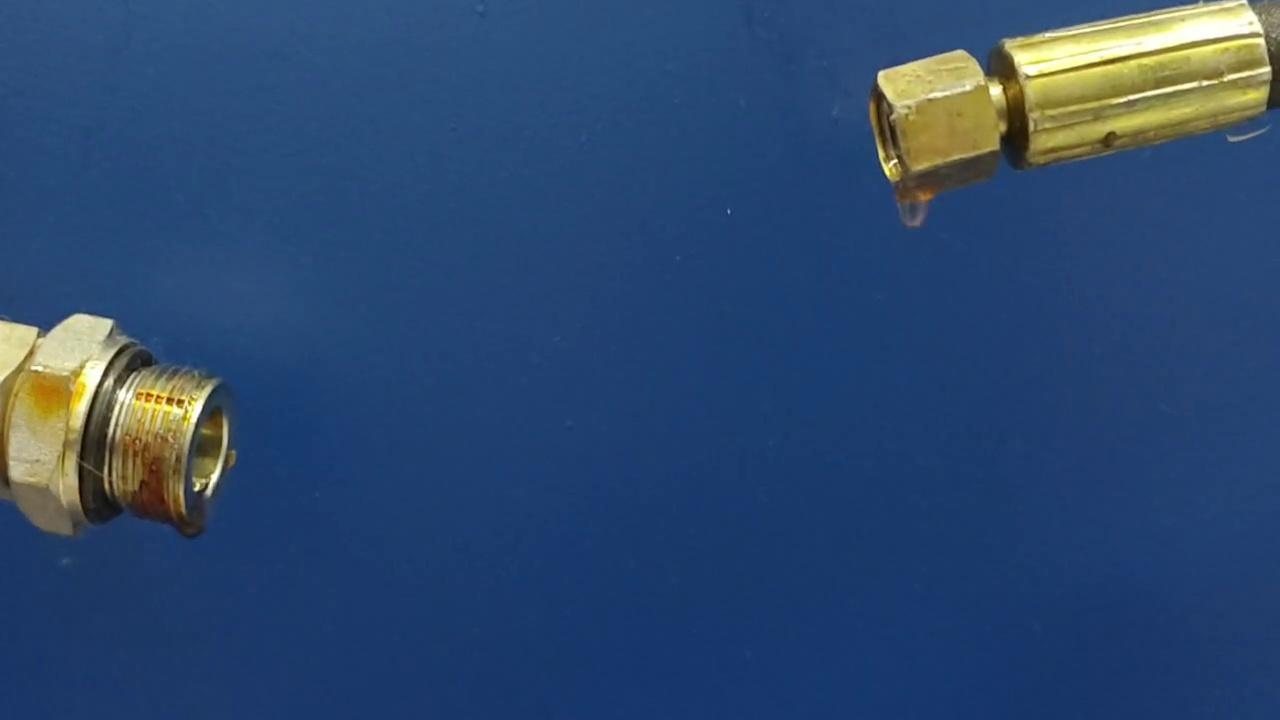water drop: (894, 184, 926, 229), (172, 523, 205, 539)
